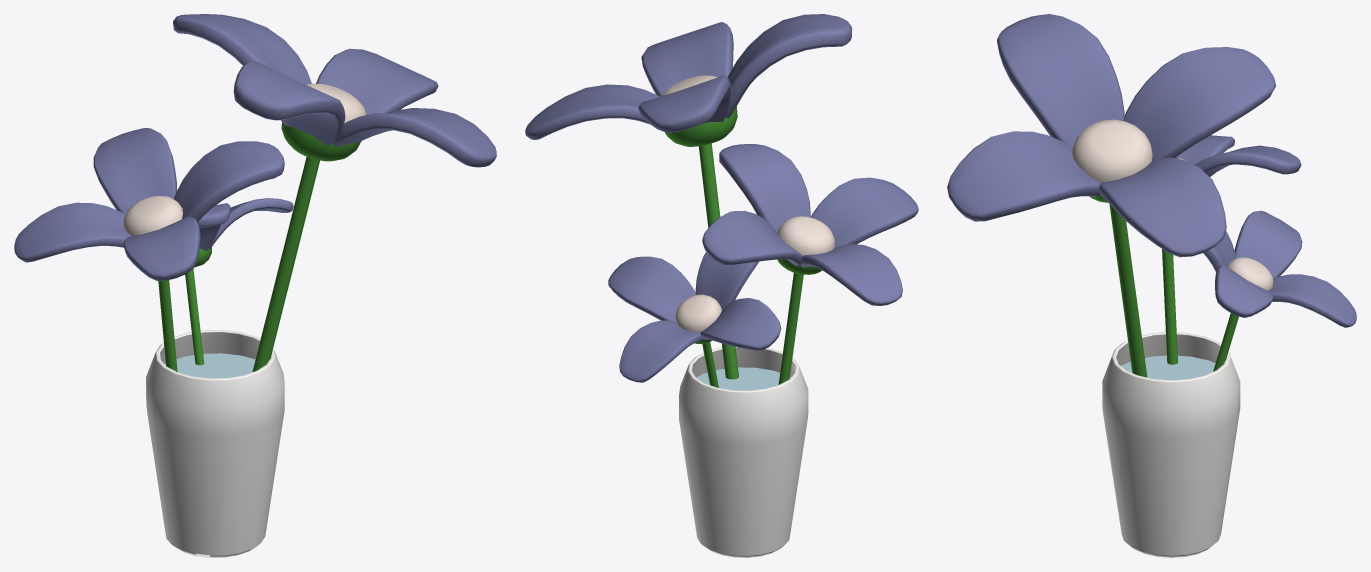
File: Flower_12.glb
3 views of the same model, side by side, from view 1: azimuth 30°, elevation 25°; view 2: azimuth 150°, elevation 25°; view 3: azimuth 270°, elevation 25° (orthographic). The views are drawn at different scales.
Parts seen in each view (by area): view 1: Vase_with_Flowers_5; view 2: Vase_with_Flowers_5; view 3: Vase_with_Flowers_5.
Part boxes in pixels (x1,y1,x2,y2): Vase_with_Flowers_5: (14, 14, 496, 557); Vase_with_Flowers_5: (525, 14, 918, 557); Vase_with_Flowers_5: (947, 14, 1356, 557).
Size of the model in its own units: 0.5964 by 0.724 by 0.5284.
Materials: 2 (2 with a texture image).
